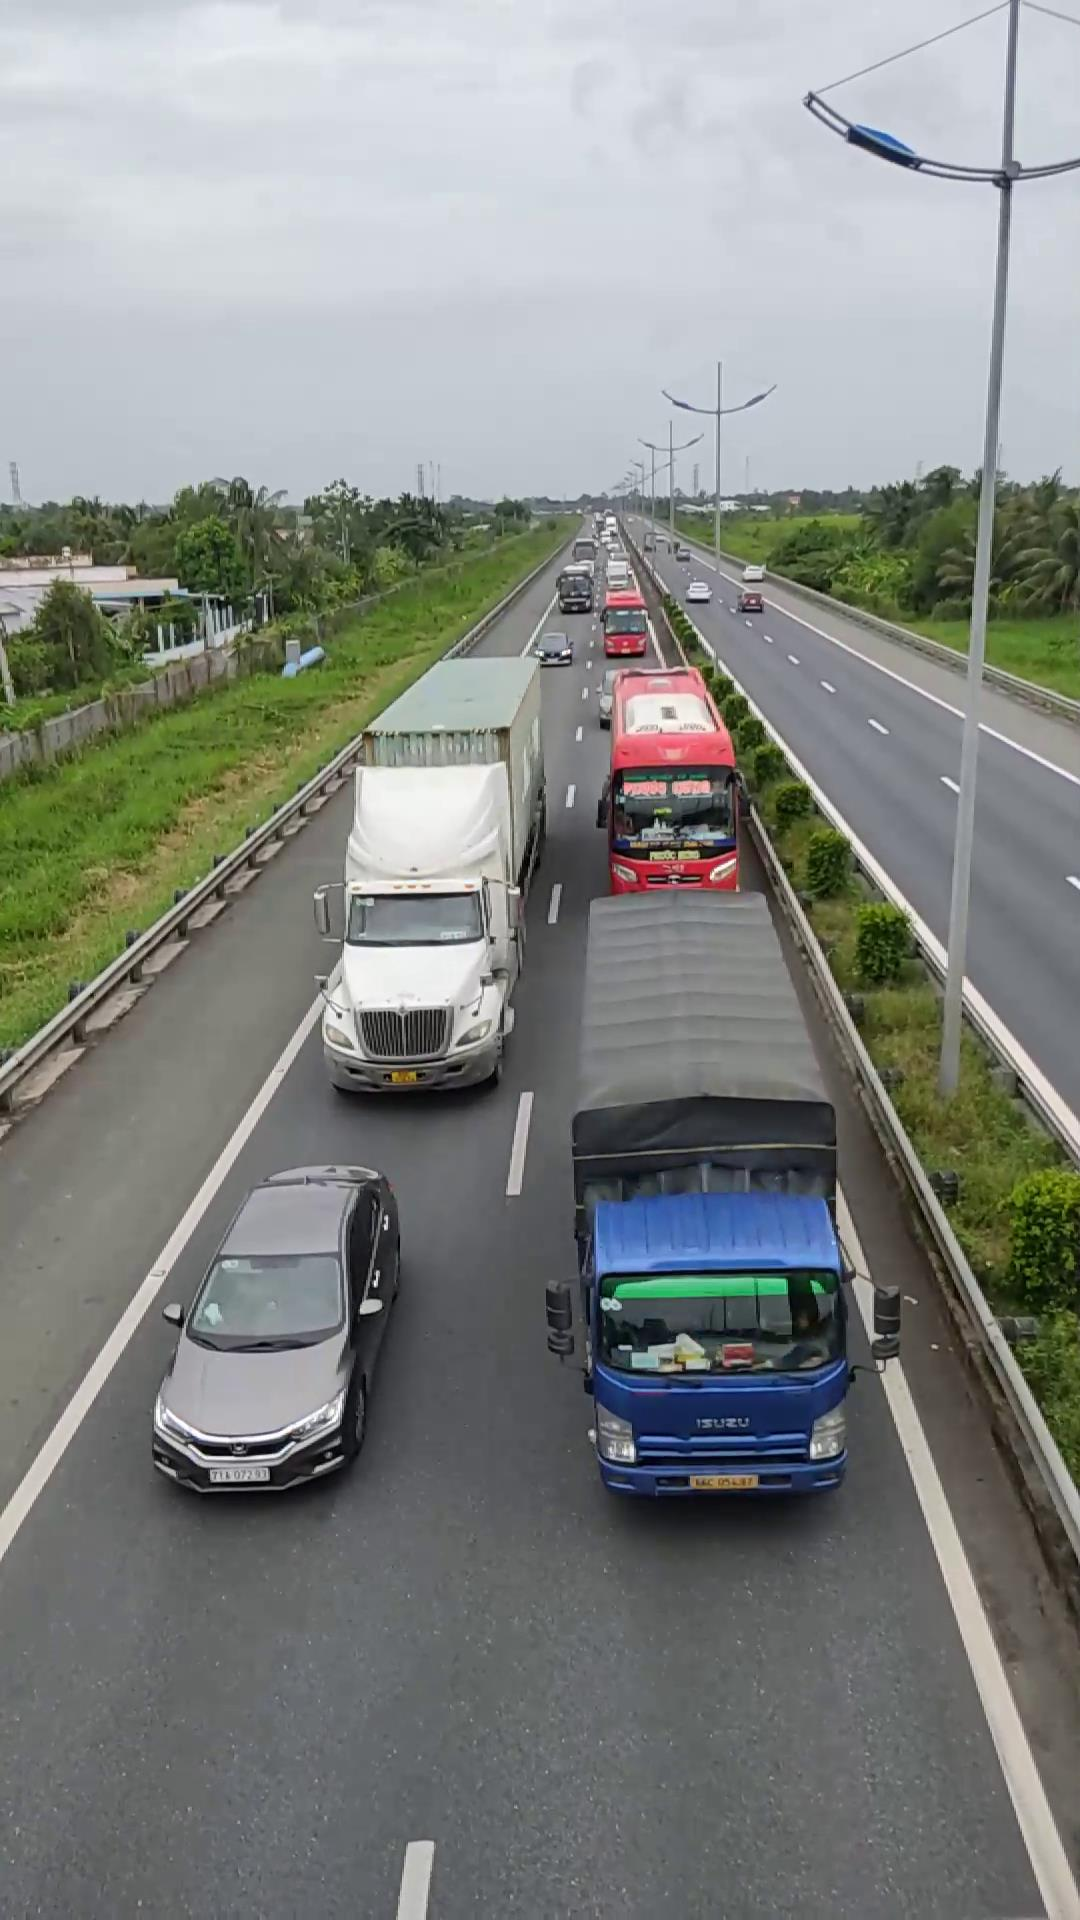car: (148, 1162, 404, 1491)
container: (316, 647, 549, 1096), (596, 659, 746, 889)
truck: (550, 903, 862, 1501)
